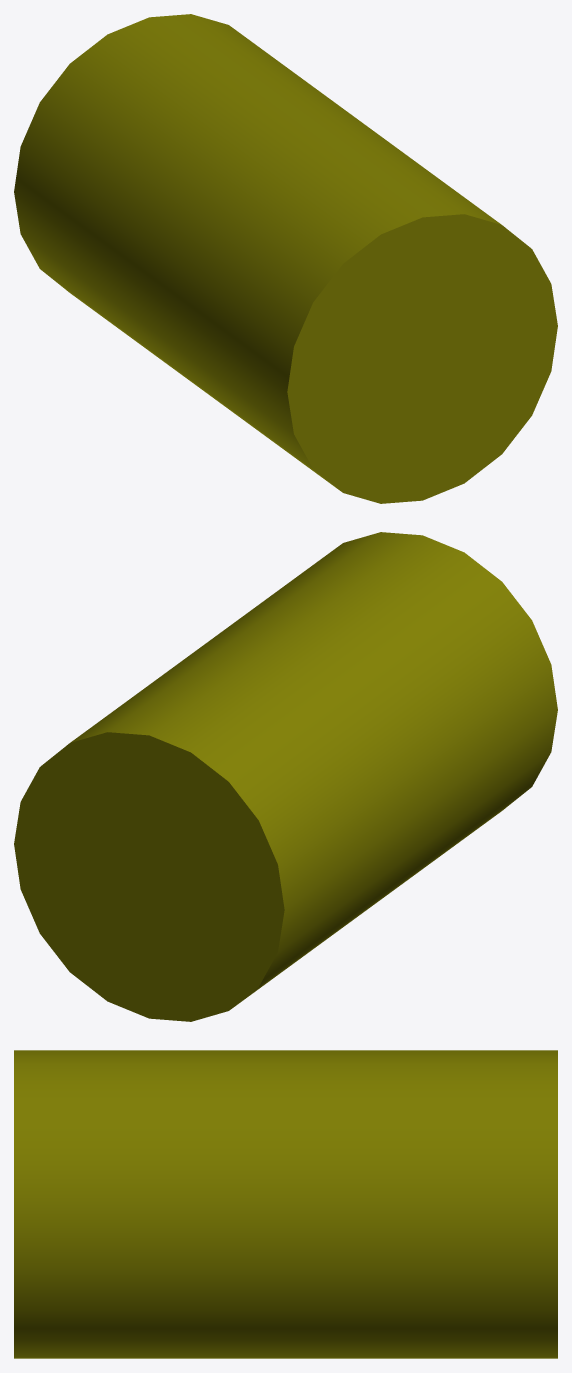
The model's file is f_taihoucolone 1.fbx.
3 views of the same model, one above another, from view 1: azimuth 30°, elevation 25°; view 2: azimuth 150°, elevation 25°; view 3: azimuth 270°, elevation 25° (orthographic).
Visible parts, largest first — view 1: f_taihoucolone; view 2: f_taihoucolone; view 3: f_taihoucolone.
Boxes of the visible parts, bbox=[...] form: f_taihoucolone: bbox=[14, 14, 557, 503]; f_taihoucolone: bbox=[14, 532, 557, 1021]; f_taihoucolone: bbox=[14, 1050, 557, 1358].
Bounding box in the file's own units: 14.15 × 14.15 × 24.76.
1 material, 1 textured.
